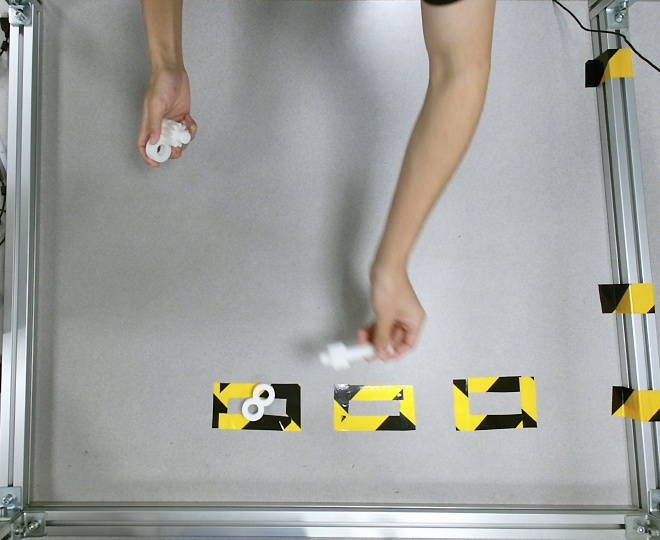stage_2: (145, 119, 189, 163)
